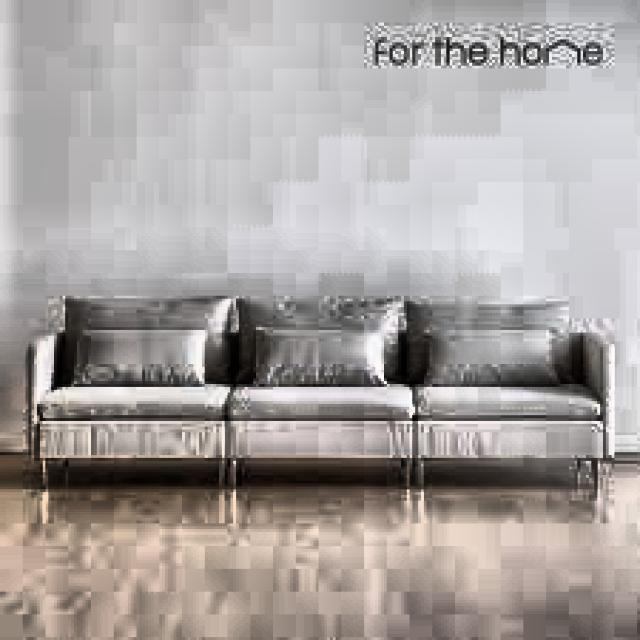sofa: (31, 296, 620, 503)
